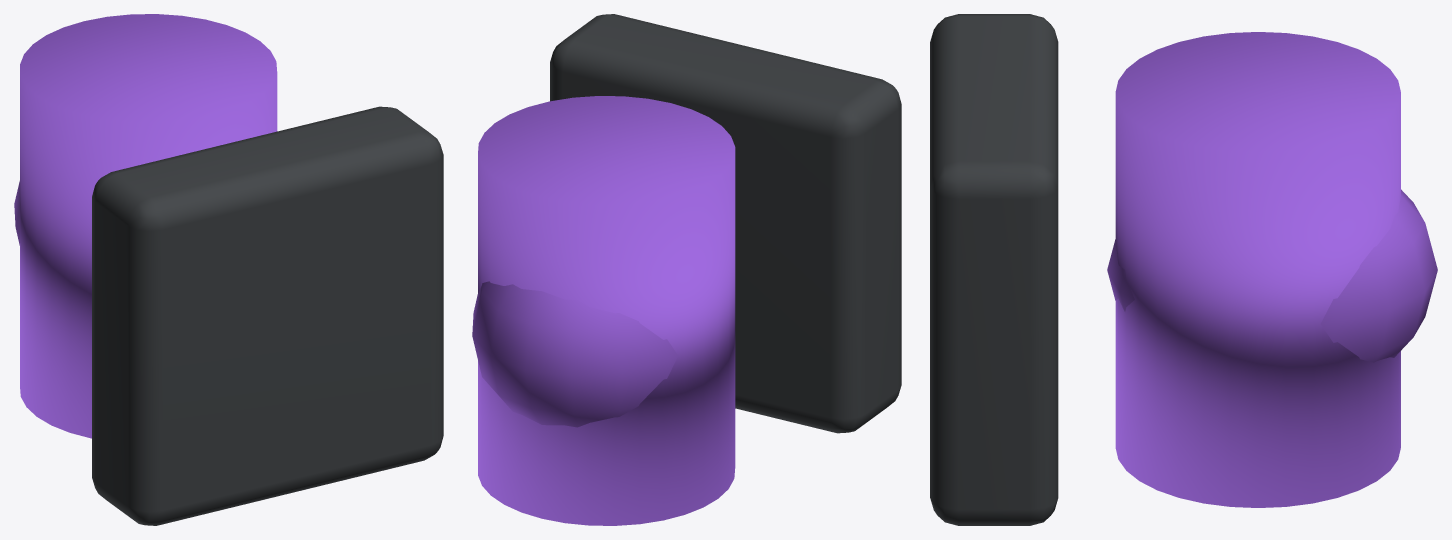
Rendered from loot_revive_final.glb.
The picture shows the model from 3 angles, left to right: view 1: azimuth 30°, elevation 25°; view 2: azimuth 150°, elevation 25°; view 3: azimuth 270°, elevation 25°; orthographic projection. The views are drawn at different scales.
Parts seen in each view (by area): view 1: sealed_revive_device_base, glass_energy_capsule; view 2: glass_energy_capsule, sealed_revive_device_base, faceted_purple_core; view 3: glass_energy_capsule, sealed_revive_device_base, faceted_purple_core.
Part boxes in pixels (x1=…): sealed_revive_device_base: x1=92, y1=106, x2=443, y2=525; glass_energy_capsule: x1=20, y1=14, x2=277, y2=438; glass_energy_capsule: x1=478, y1=96, x2=735, y2=525; sealed_revive_device_base: x1=550, y1=14, x2=901, y2=433; faceted_purple_core: x1=472, y1=281, x2=677, y2=427; glass_energy_capsule: x1=1115, y1=32, x2=1400, y2=507; sealed_revive_device_base: x1=930, y1=14, x2=1058, y2=525; faceted_purple_core: x1=1107, y1=189, x2=1437, y2=362.
Size of the model in its own units: 0.56 by 0.56 by 0.7118.
